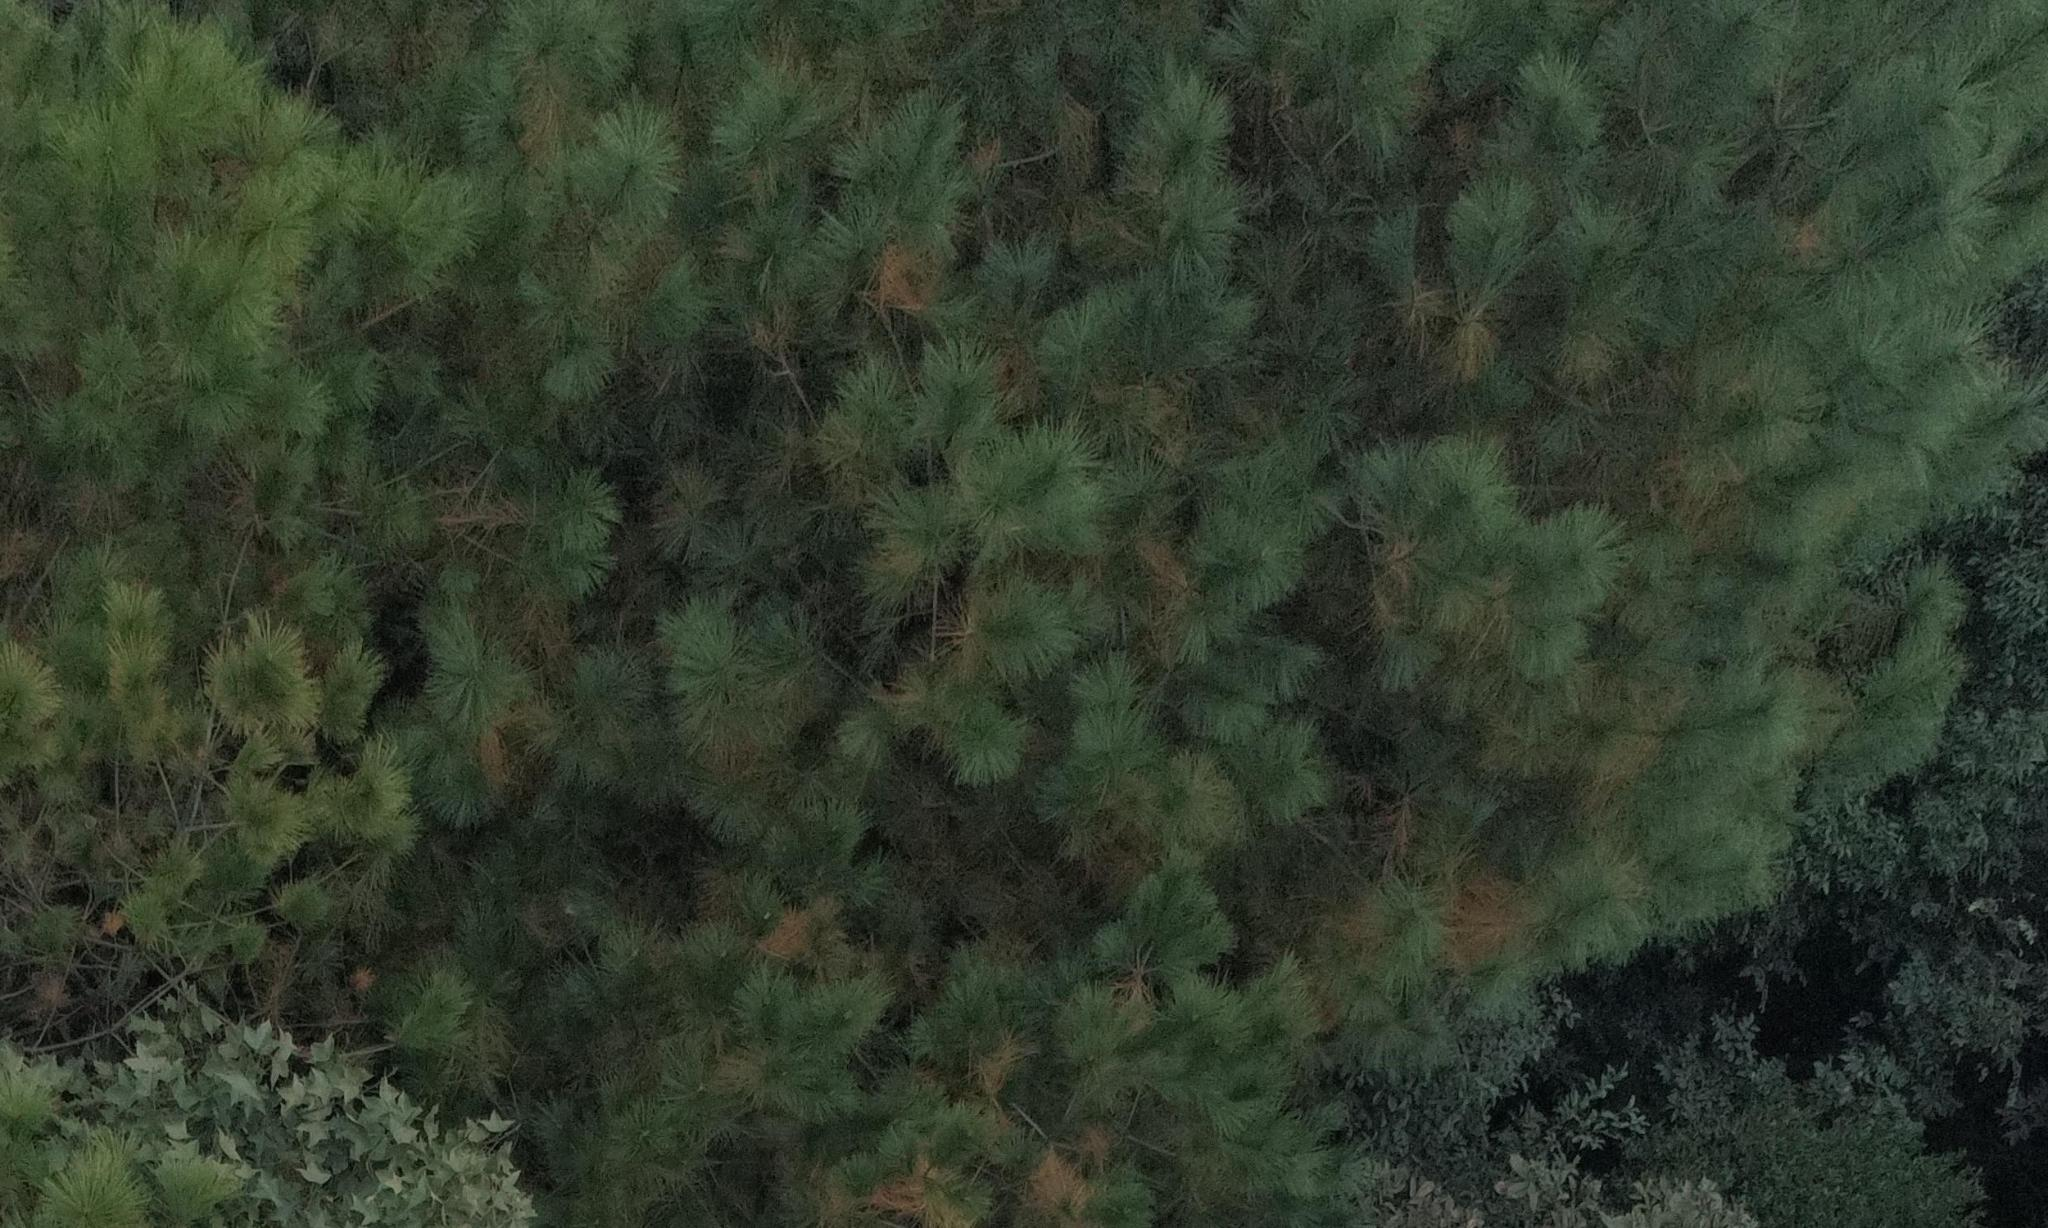light: (307, 12, 1664, 1219)
